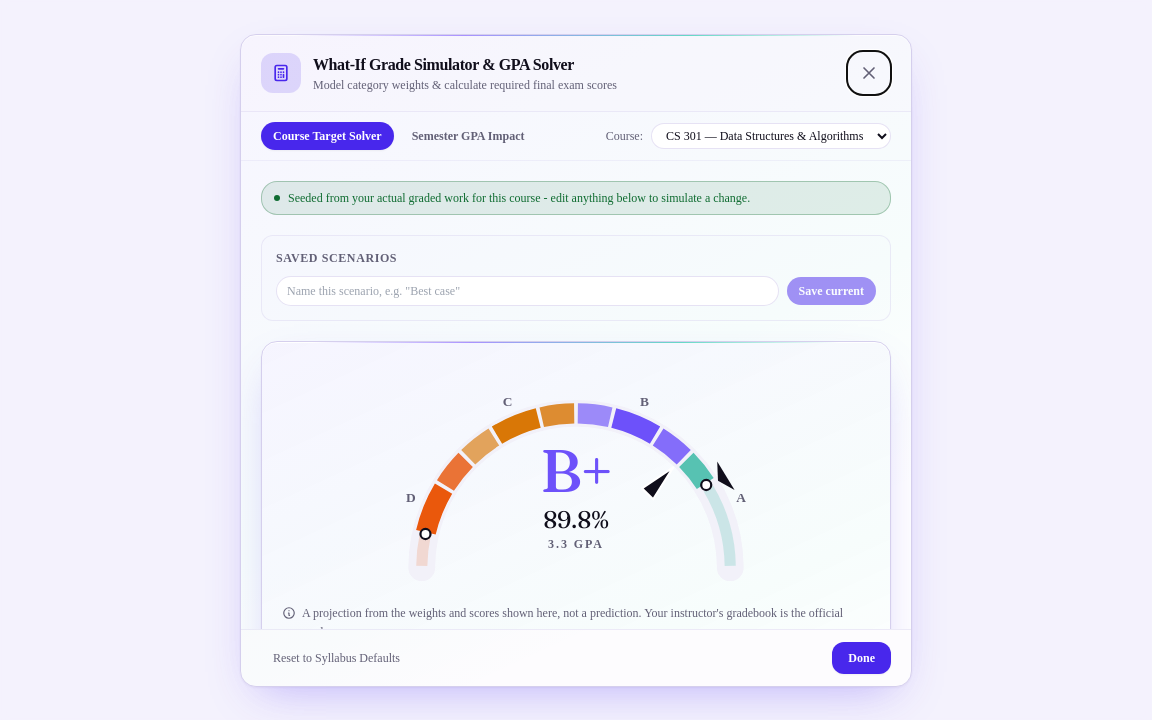
Test: GradeCalculatorModal (Item 36) › shows "No grades yet" in the Semester GPA tab for a course with no graded items
The width and height of the screenshot is (1152, 720).
Step 1. Click the button "Semester GPA Impact" → (468, 136), box left=400, top=122, right=537, bottom=150
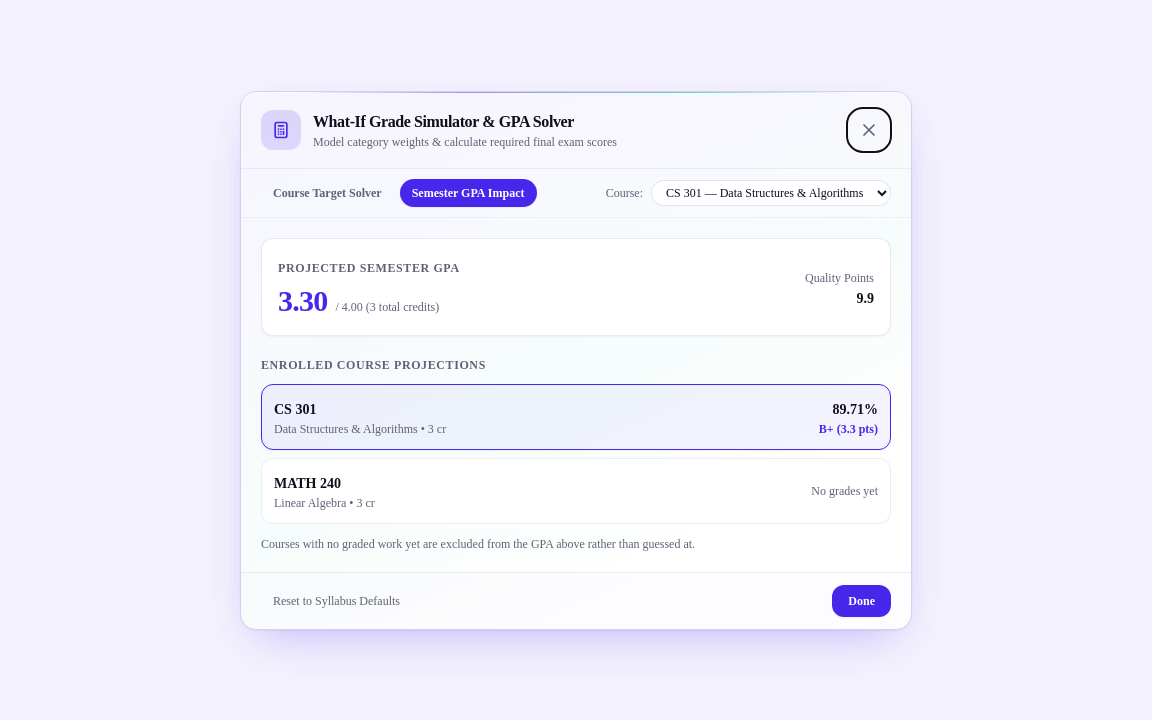
expect the text "No grades yet" is shown: met, box left=811, top=482, right=878, bottom=498
